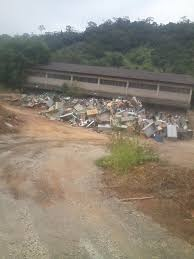rubble: (22, 88, 190, 138)
